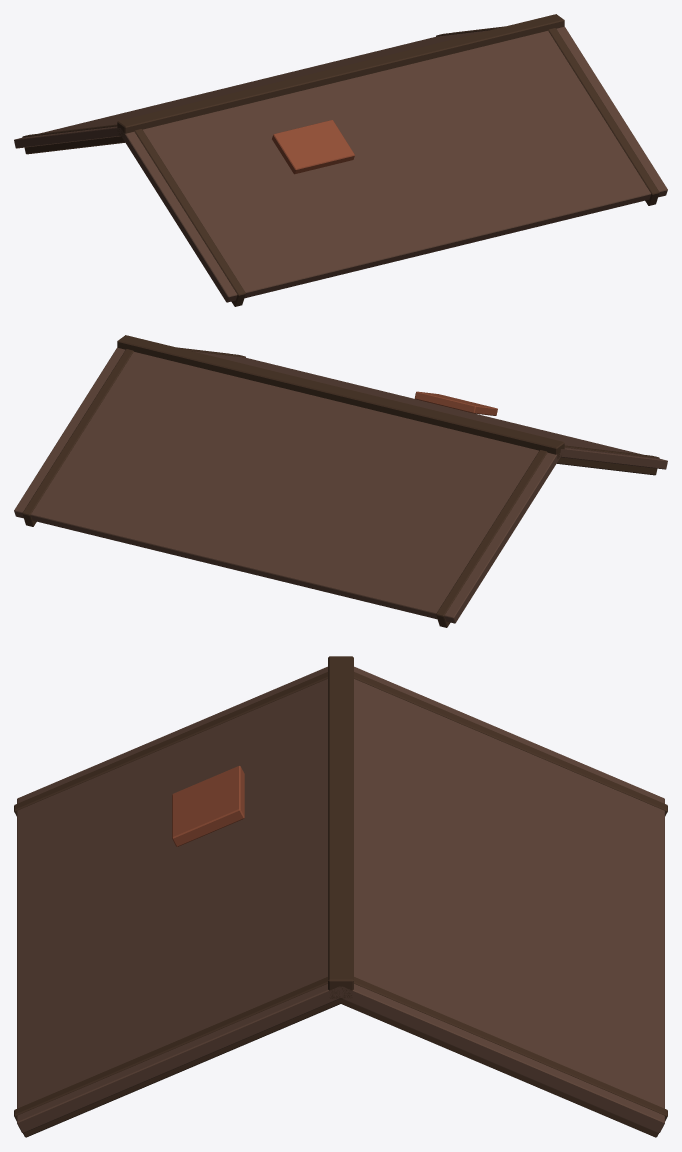
The model's file is Hut_Roof_0_-2.fbx.
The picture shows the model from 3 angles, top to bottom: view 1: azimuth 30°, elevation 25°; view 2: azimuth 150°, elevation 25°; view 3: azimuth 270°, elevation 25°; orthographic projection. The views are drawn at different scales.
Visible parts, largest first — view 1: Hut_Roof_0_-2; view 2: Hut_Roof_0_-2; view 3: Hut_Roof_0_-2.
Part boxes in pixels (x1,y1,x2,y2): Hut_Roof_0_-2: (14,14,667,306); Hut_Roof_0_-2: (14,335,667,627); Hut_Roof_0_-2: (14,656,667,1137).
Size of the model in its own units: 770 by 182 by 656.
